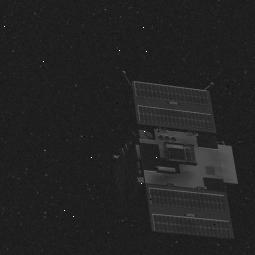proba_2: (121, 73, 238, 236)
